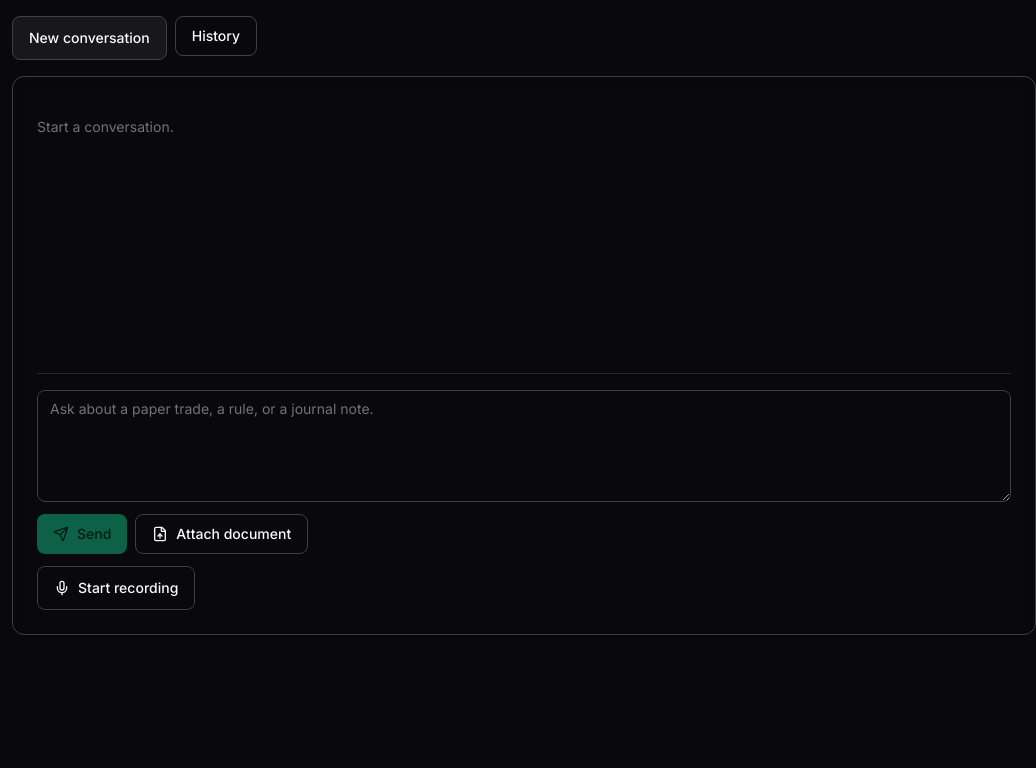
Scenario: Agent workspace › presents bounded manual command choices as visible durable links
Click the button "History". click: (216, 36)
box: [175,16,257,56]
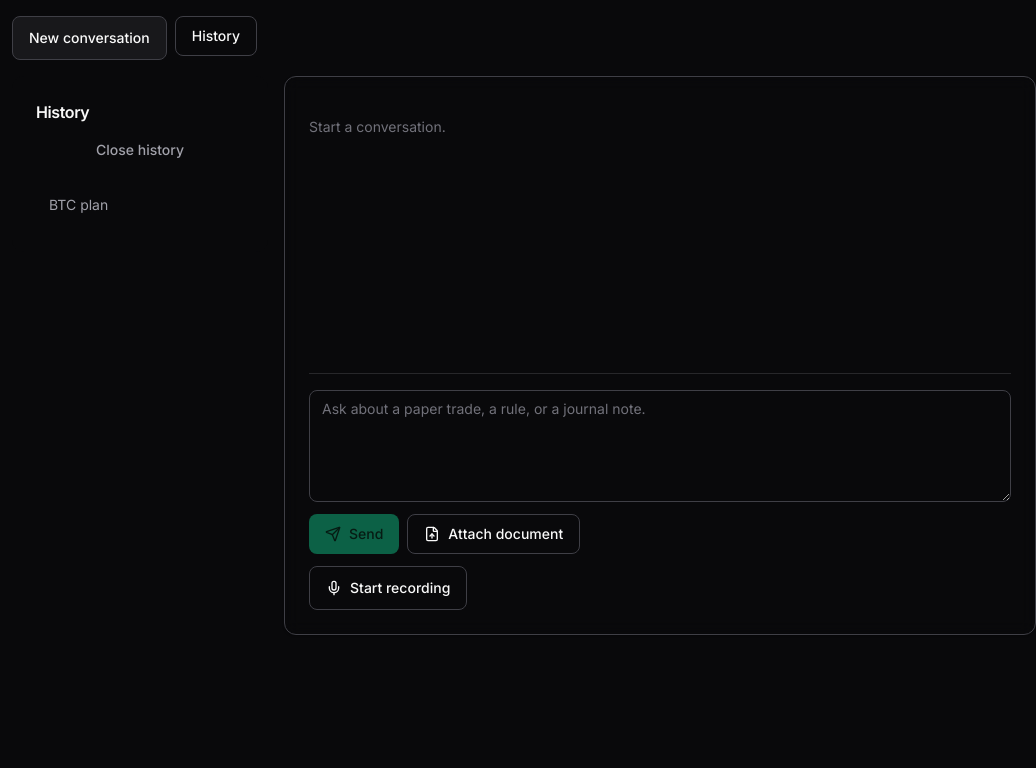
Click the button "BTC plan". click: (140, 205)
box: [36,182,244,228]
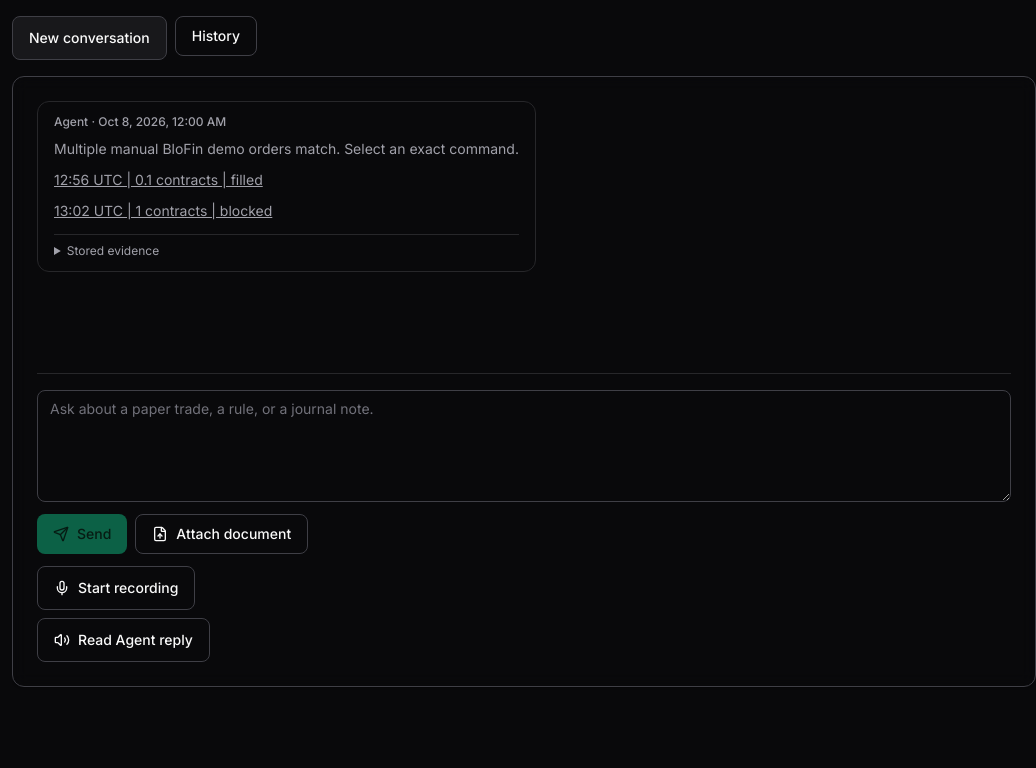
Check: the list named "Matching manual demo attempts" shows "0.1 contracts | filled", box [54,171,263,188]
Check: the list named "Matching manual demo attempts" shows "1 contracts | blocked", box [54,202,272,218]
